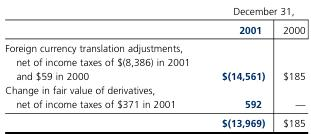table: (4, 4, 304, 128)
table column: (4, 4, 205, 128), (205, 4, 273, 128), (273, 4, 304, 128)
table column header: (4, 4, 304, 38)
table row: (4, 38, 304, 82), (4, 82, 304, 113), (4, 19, 304, 38), (4, 4, 304, 19), (4, 113, 304, 128)
table spanning cell: (205, 4, 304, 19)
